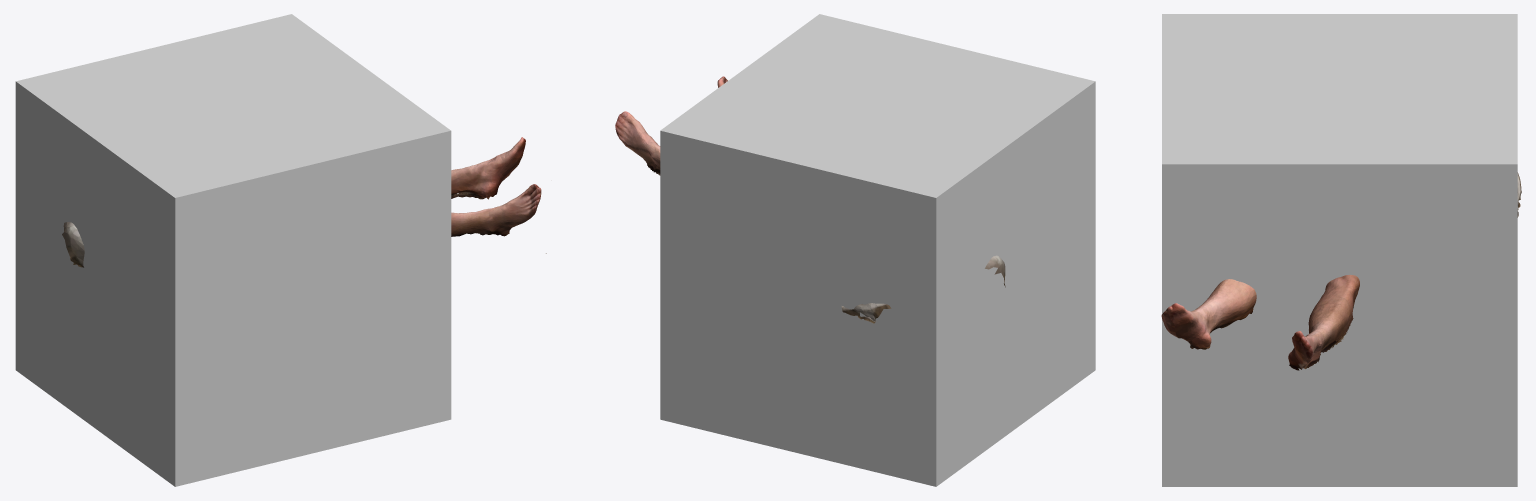
File: body.glb
3 renders of one model, left to right at view 1: azimuth 30°, elevation 25°; view 2: azimuth 150°, elevation 25°; view 3: azimuth 270°, elevation 25°, orthographic. The views are drawn at different scales.
Parts seen in each view (by area): view 1: Cube, Mesh_0; view 2: Cube, Mesh_0; view 3: Cube, Mesh_0.
Part boxes in pixels (x1,y1,x2,y2): Cube: [15, 14, 451, 486]; Mesh_0: [62, 137, 546, 267]; Cube: [660, 14, 1095, 486]; Mesh_0: [615, 76, 1005, 323]; Cube: [1162, 14, 1517, 486]; Mesh_0: [1161, 172, 1521, 370].
Size of the model in its own units: 3.57 by 2 by 2.23.
2 materials, 1 textured.
